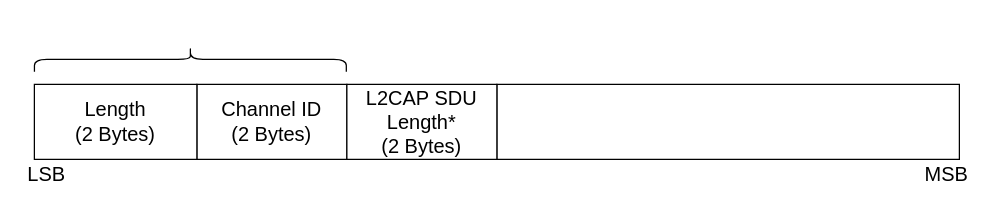
The diagram is 993 pixels wide and 208 high, and some of its shapes have lost their labels. The centre of each missing label's shape, as x and y in pixels:
"Basic L2CAP Header" belongs at point 189,59.
"Payload (0 ... 65533* Bytes)" belongs at point 727,121.
